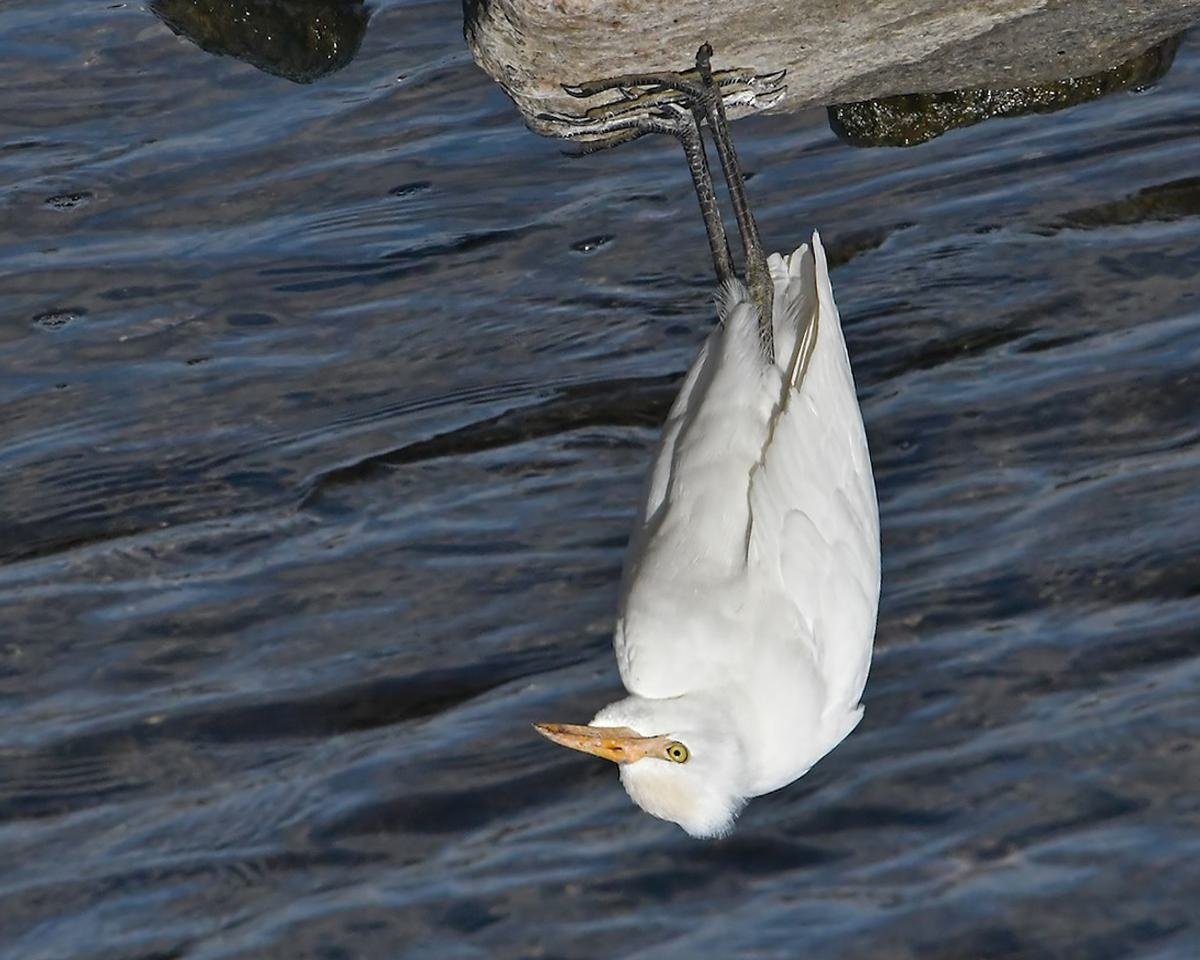egret: (526, 18, 862, 851)
